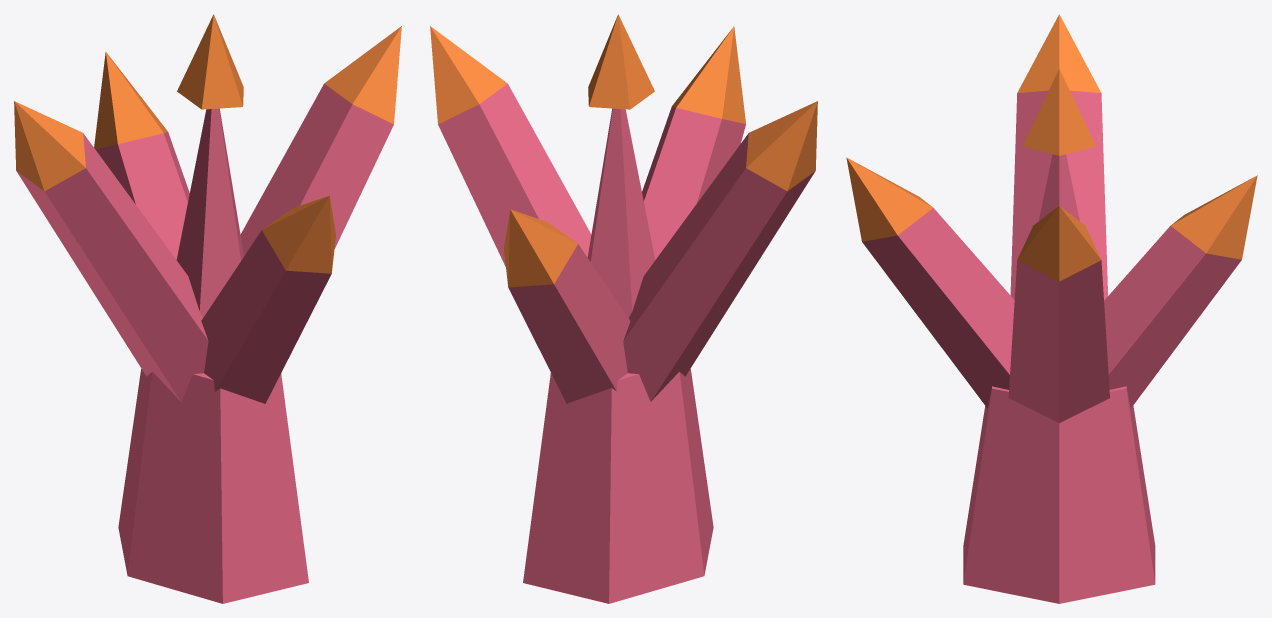
Rendered from env_r15_branch_coral.glb.
3 renders of one model, left to right at view 1: azimuth 30°, elevation 25°; view 2: azimuth 150°, elevation 25°; view 3: azimuth 270°, elevation 25°, orthographic. The views are drawn at different scales.
Visible parts, largest first — view 1: env_r15_branch_coral; view 2: env_r15_branch_coral; view 3: env_r15_branch_coral.
Boxes of the visible parts, x1=… form: env_r15_branch_coral: x1=14, y1=14, x2=401, y2=603; env_r15_branch_coral: x1=430, y1=14, x2=817, y2=603; env_r15_branch_coral: x1=846, y1=14, x2=1257, y2=603.
Size of the model in its own units: 1.8 by 2.4 by 1.8.
Materials: 1 (1 with a texture image).
